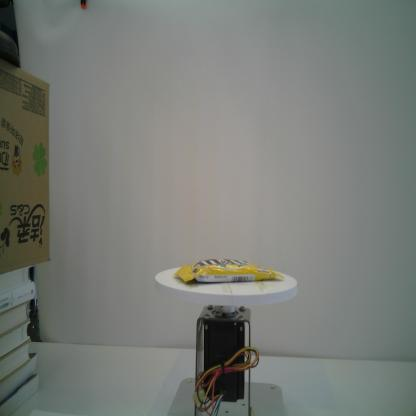Chocolate: (173, 258, 286, 284)
